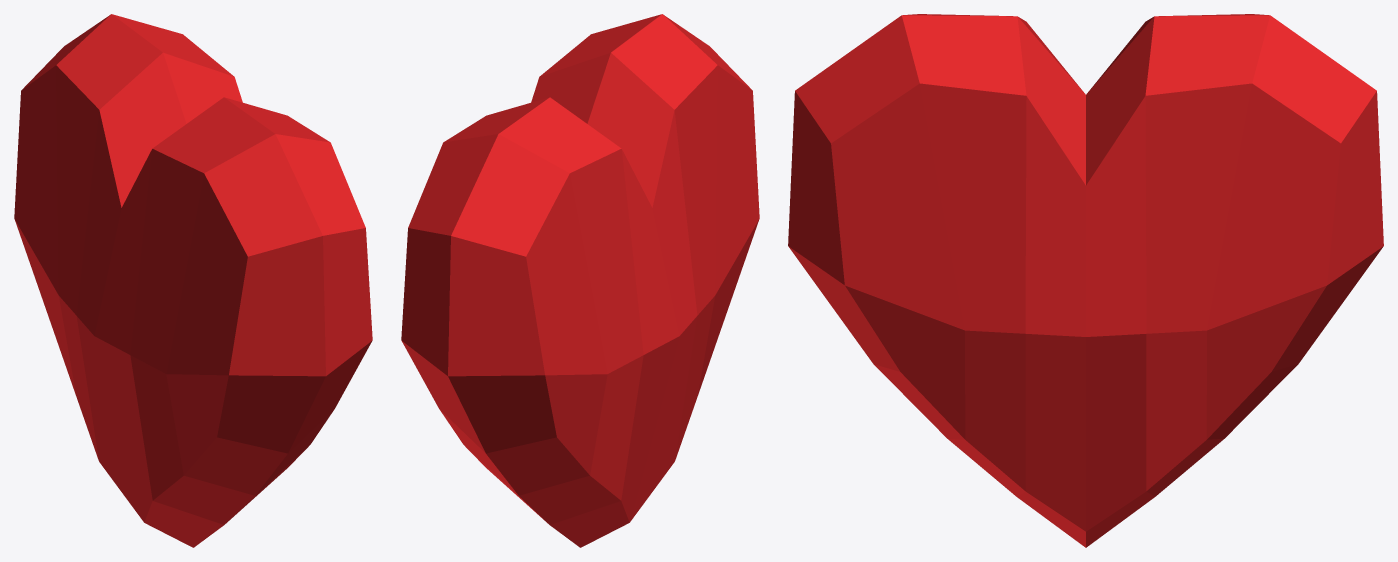
The model's file is heart.fbx.
3 views of the same model, side by side, from view 1: azimuth 30°, elevation 25°; view 2: azimuth 150°, elevation 25°; view 3: azimuth 270°, elevation 25° (orthographic). The views are drawn at different scales.
Parts seen in each view (by area): view 1: Cube; view 2: Cube; view 3: Cube.
Boxes of the visible parts, x1,y1,x2,y2 form: Cube: [14, 14, 372, 547]; Cube: [401, 14, 759, 547]; Cube: [788, 14, 1383, 547].
Size of the model in its own units: 104 by 238 by 241.
